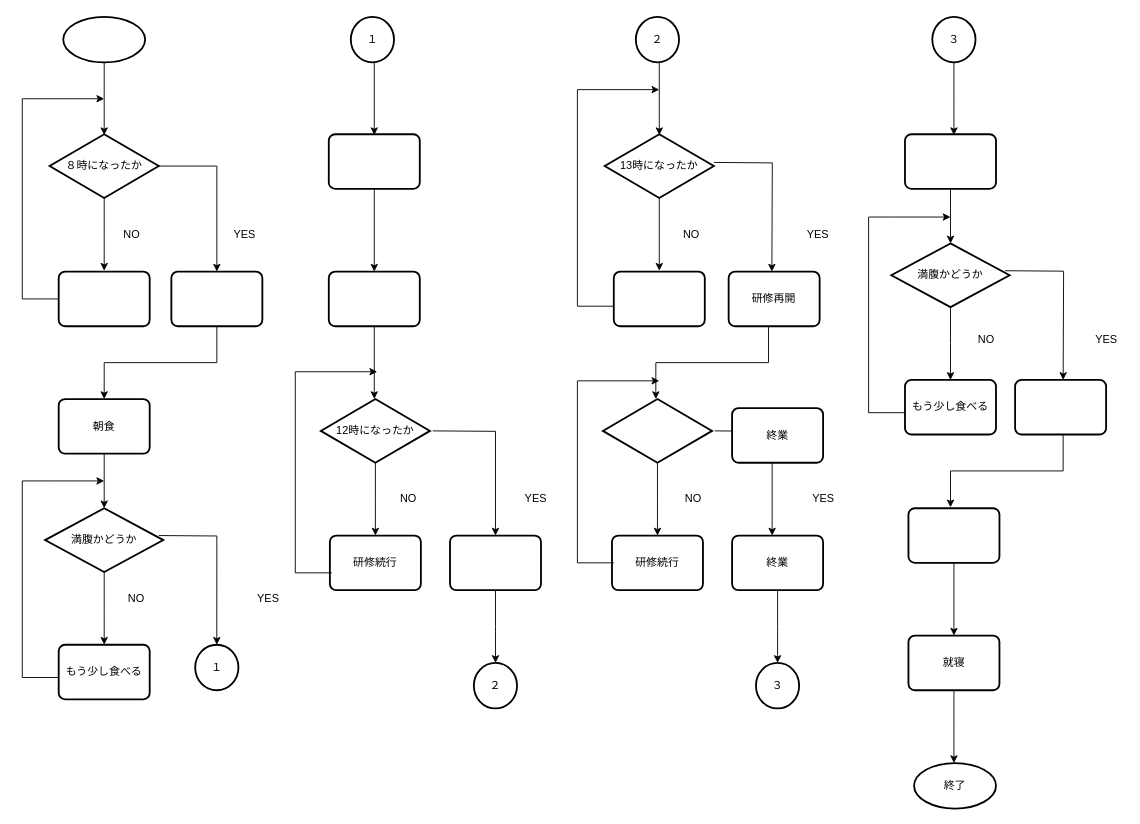
This 1140x824 diagram has some shape labels left out. The centre of each missing label's shape, as x and y in pixels:
17時半になったか: (x=657, y=430)
お昼休み: (x=495, y=562)
お昼休み続く: (x=658, y=298)
お風呂: (x=1060, y=407)
夕食: (x=950, y=161)
寝続ける: (x=103, y=298)
歯磨き・着替え: (x=373, y=161)
研修開始: (x=373, y=298)
起床: (x=216, y=298)
趣味・娯楽: (x=953, y=535)
開始: (x=104, y=39)
